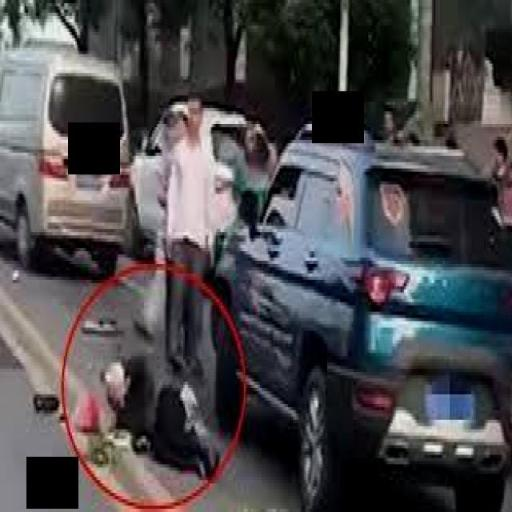Fall: (83, 328, 226, 484)
